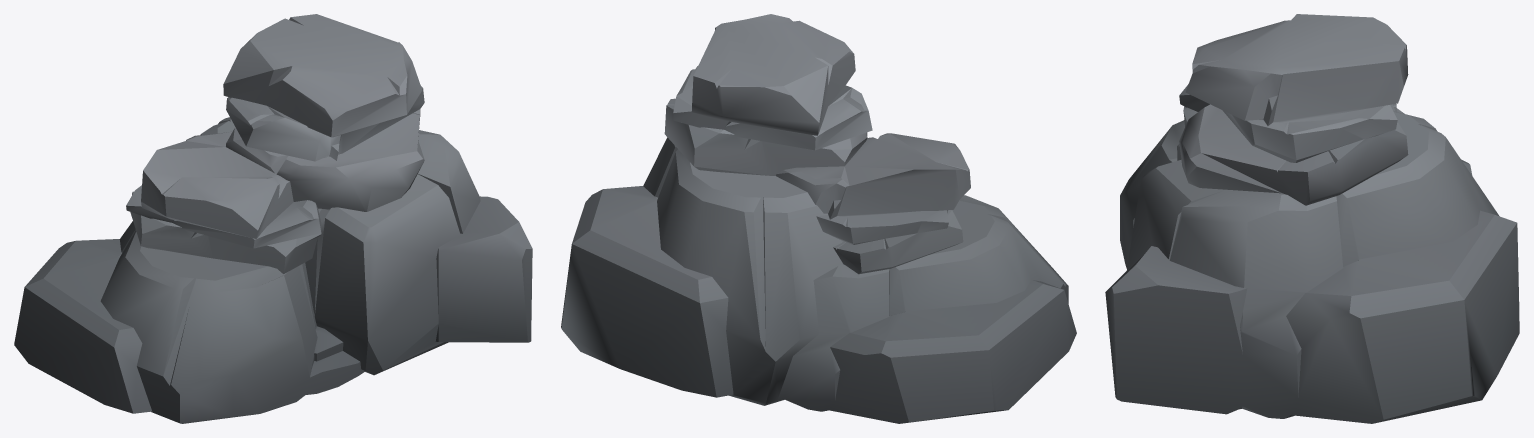
The model's file is Rock_3.fbx.
The picture shows the model from 3 angles, left to right: view 1: azimuth 30°, elevation 25°; view 2: azimuth 150°, elevation 25°; view 3: azimuth 270°, elevation 25°; orthographic projection. The views are drawn at different scales.
Visible parts, largest first — view 1: Rock_3; view 2: Rock_3; view 3: Rock_3.
Part boxes in pixels (x1,y1,x2,y2): Rock_3: (14, 14, 532, 423); Rock_3: (561, 14, 1076, 423); Rock_3: (1105, 14, 1519, 423).
Bounding box in the file's own units: 1668 × 1027 × 1238.
